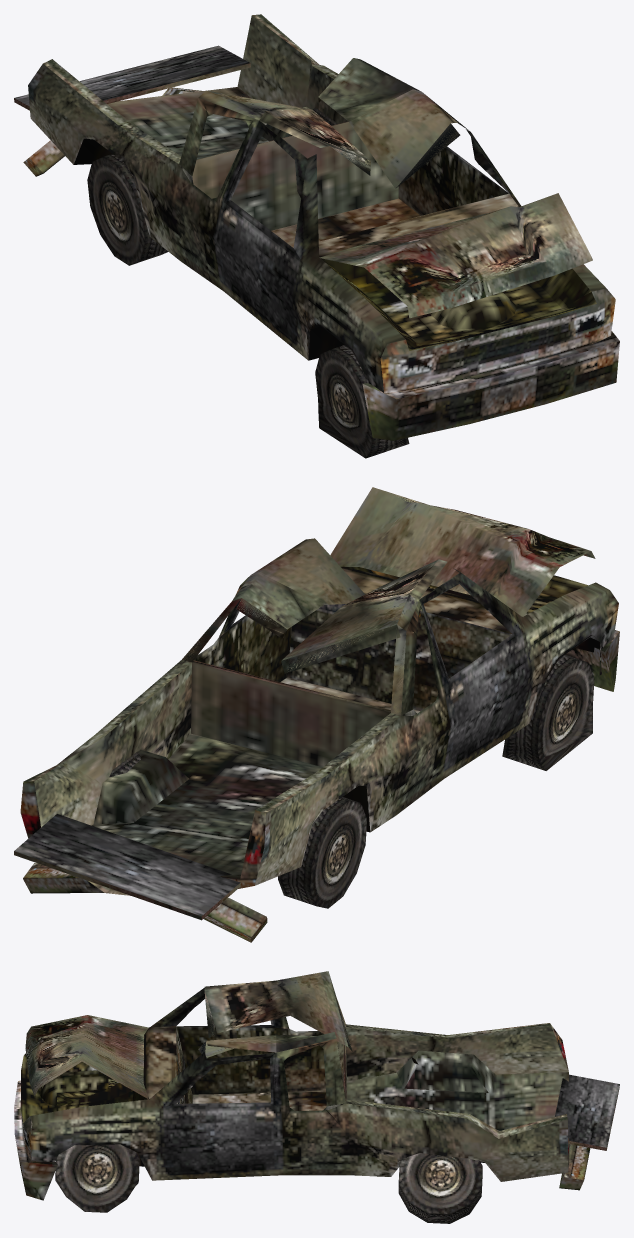
Rendered from ntrk1x.glb.
The picture shows the model from 3 angles, top to bottom: view 1: azimuth 30°, elevation 25°; view 2: azimuth 150°, elevation 25°; view 3: azimuth 270°, elevation 25°; orthographic projection. The views are drawn at different scales.
Parts seen in each view (by area): view 1: _ntrk1x; view 2: _ntrk1x; view 3: _ntrk1x.
Part boxes in pixels (box(x1,y1,x2,y2)): _ntrk1x: box(14, 14, 619, 458); _ntrk1x: box(14, 487, 619, 942); _ntrk1x: box(14, 971, 619, 1223).
Bounding box in the file's own units: 2.61 × 2.07 × 6.35.
2 materials, 2 textured.
